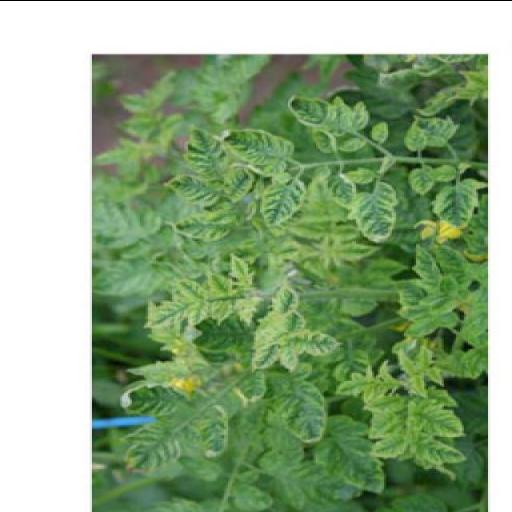Yellow Leaf Curl Virus: (120, 384, 232, 472), (270, 363, 328, 443), (212, 124, 292, 170), (342, 182, 398, 246), (289, 93, 367, 136), (434, 174, 488, 230), (186, 118, 230, 178), (162, 168, 224, 208), (398, 398, 462, 434), (260, 177, 308, 225), (336, 368, 408, 398), (171, 212, 243, 242), (406, 242, 448, 292), (284, 328, 348, 357), (408, 434, 468, 464), (370, 428, 416, 460), (268, 276, 304, 316), (252, 334, 278, 366), (176, 278, 208, 304)
